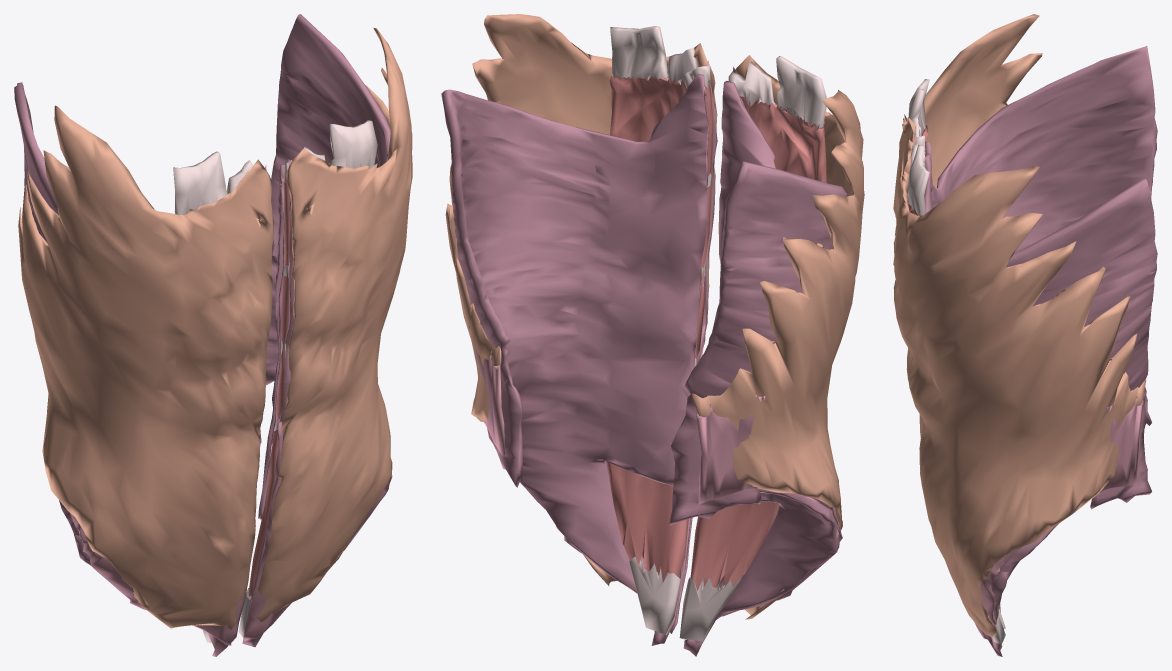
Rendered from decimate-10.glb.
3 renders of one model, left to right at view 1: azimuth 30°, elevation 25°; view 2: azimuth 150°, elevation 25°; view 3: azimuth 270°, elevation 25°, orthographic. The views are drawn at different scales.
Parts seen in each view (by area): view 1: external_r, external_l, transversus_l, rectus_l, internal_l, rectus_r, transversus_r, internal_r; view 2: transversus_l, transversus_r, external_r, rectus_l, rectus_r, external_l, internal_r, internal_l; view 3: external_l, transversus_r, transversus_l, external_r, internal_l, rectus_l, rectus_r.
Boxes of the visible parts, left/top/right/bottom form: external_r: left=18, top=105, right=273, bottom=629; external_l: left=257, top=28, right=412, bottom=622; transversus_l: left=242, top=14, right=390, bottom=647; rectus_l: left=238, top=120, right=377, bottom=637; internal_l: left=243, top=159, right=392, bottom=641; rectus_r: left=173, top=151, right=252, bottom=642; transversus_r: left=14, top=82, right=228, bottom=656; internal_r: left=70, top=165, right=274, bottom=645; transversus_l: left=441, top=74, right=707, bottom=645; transversus_r: left=669, top=81, right=846, bottom=656; external_r: left=692, top=55, right=864, bottom=619; rectus_l: left=606, top=26, right=712, bottom=634; rectus_r: left=679, top=56, right=826, bottom=641; external_l: left=445, top=14, right=717, bottom=585; internal_r: left=696, top=66, right=842, bottom=619; internal_l: left=468, top=60, right=717, bottom=633; external_l: left=893, top=139, right=1146, bottom=637; transversus_r: left=924, top=46, right=1157, bottom=425; transversus_l: left=924, top=153, right=1157, bottom=656; external_r: left=893, top=14, right=1042, bottom=437; internal_l: left=907, top=165, right=1143, bottom=639; rectus_l: left=906, top=144, right=1005, bottom=644; rectus_r: left=908, top=79, right=1005, bottom=628.
Size of the model in its own units: 0.2817 by 0.4383 by 0.1885.
